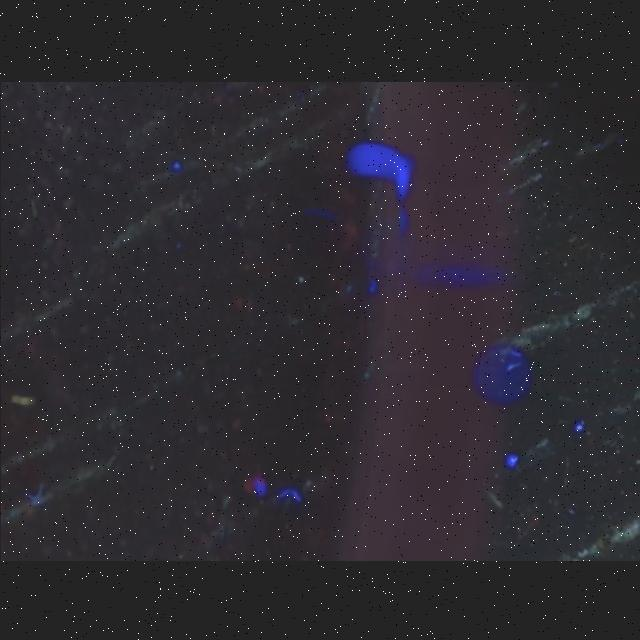microbeads: (12, 390, 36, 408)
